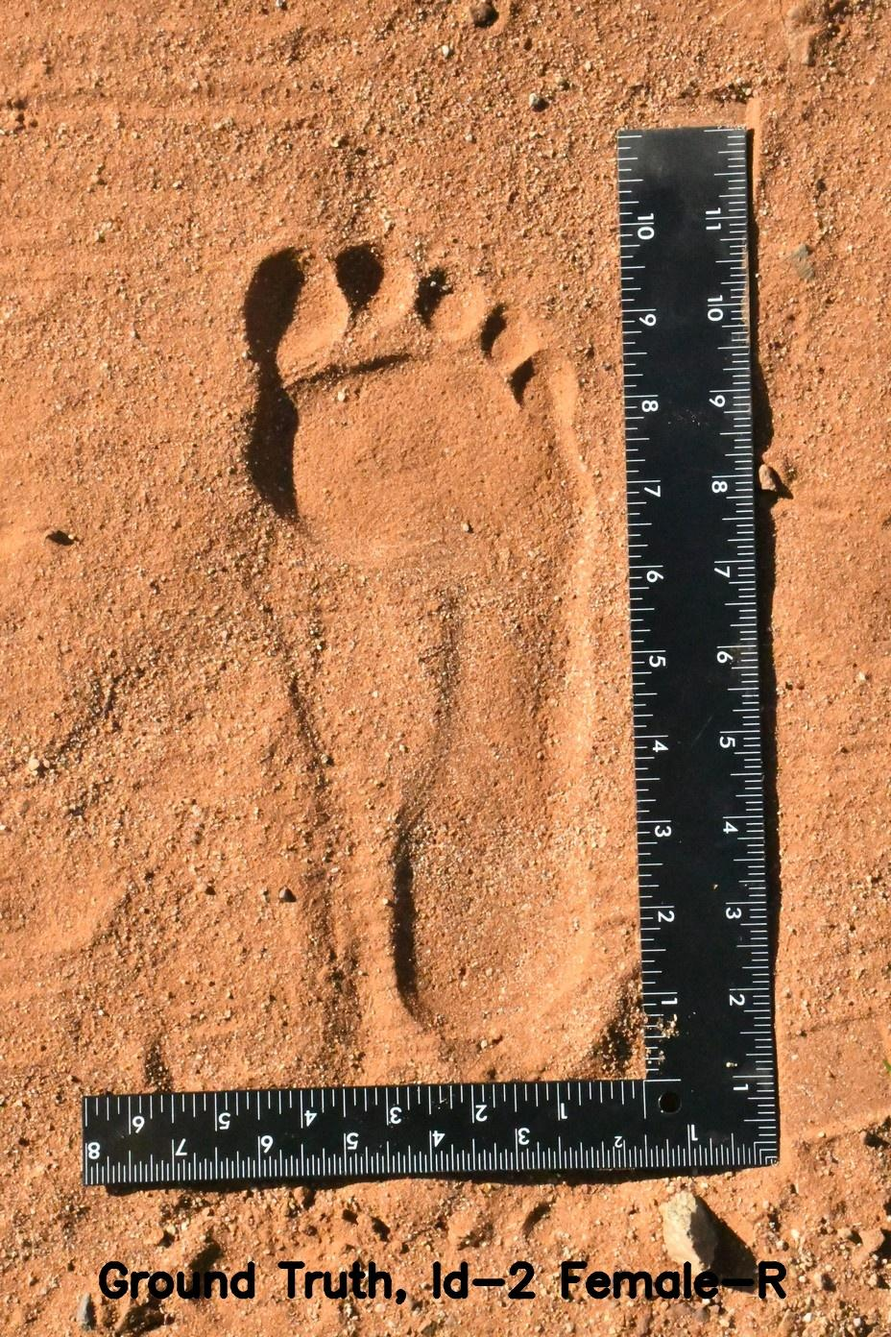human_foot_print: (199, 228, 618, 1066)
